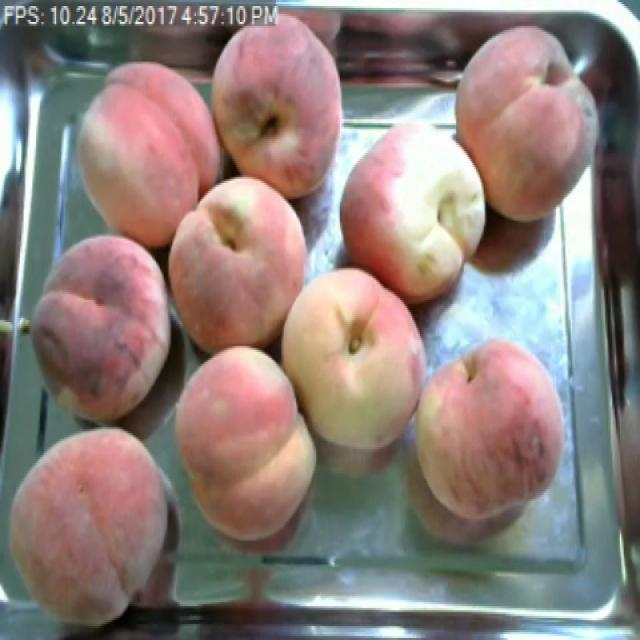Fruit: (0, 413, 188, 640), (436, 10, 612, 238), (265, 255, 439, 461), (403, 328, 576, 535), (328, 123, 507, 318), (165, 336, 328, 550), (18, 223, 178, 441), (71, 52, 237, 254), (201, 8, 356, 213), (164, 167, 321, 366)
